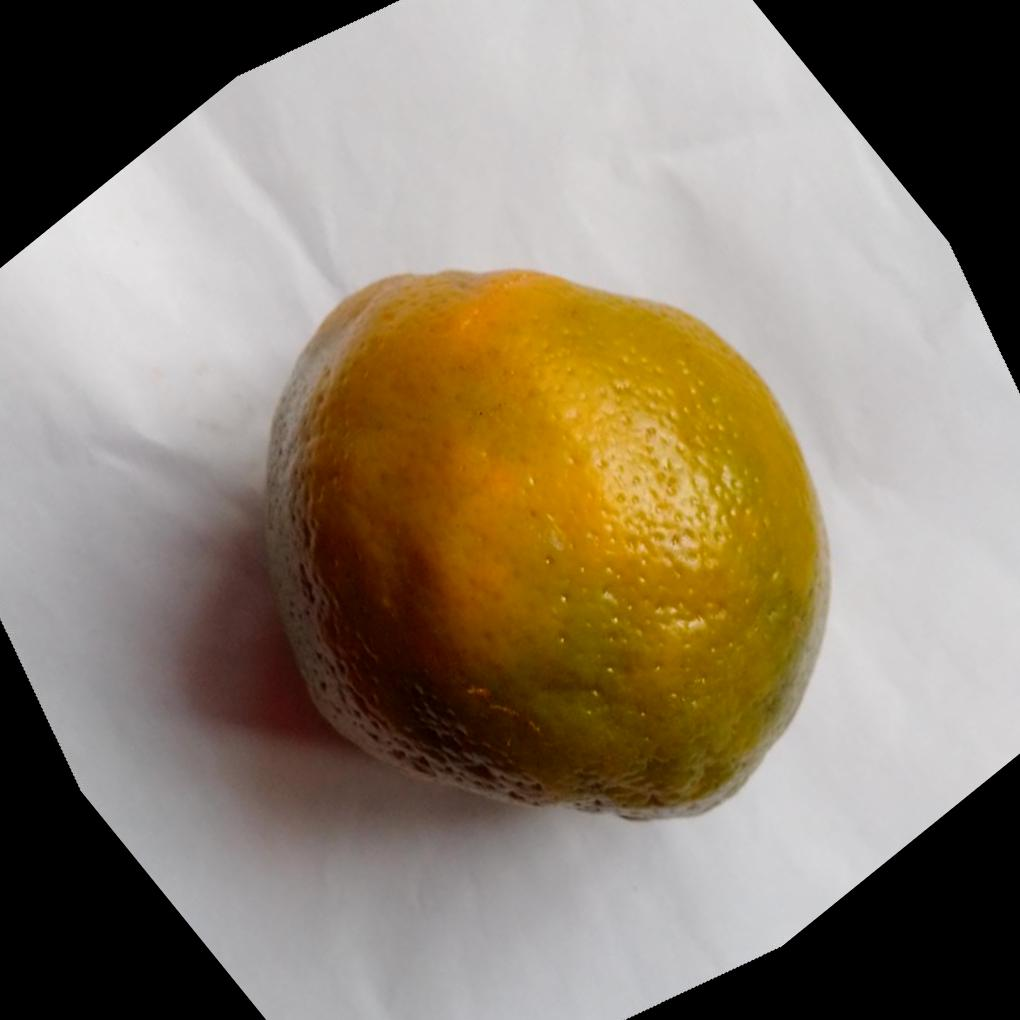FreshGuava: (261, 263, 834, 821)
